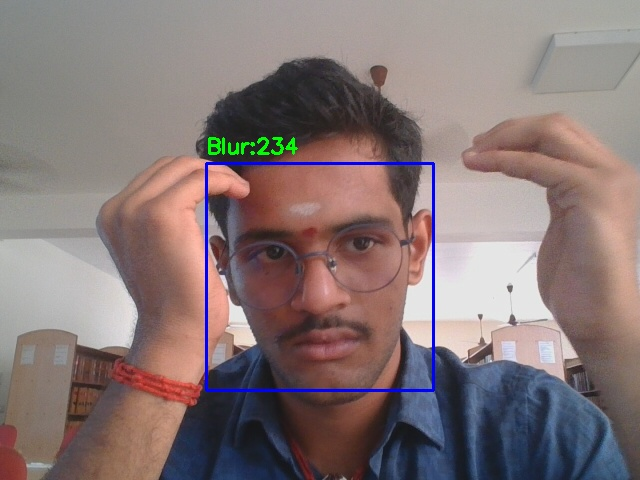real: (206, 163, 433, 390)
